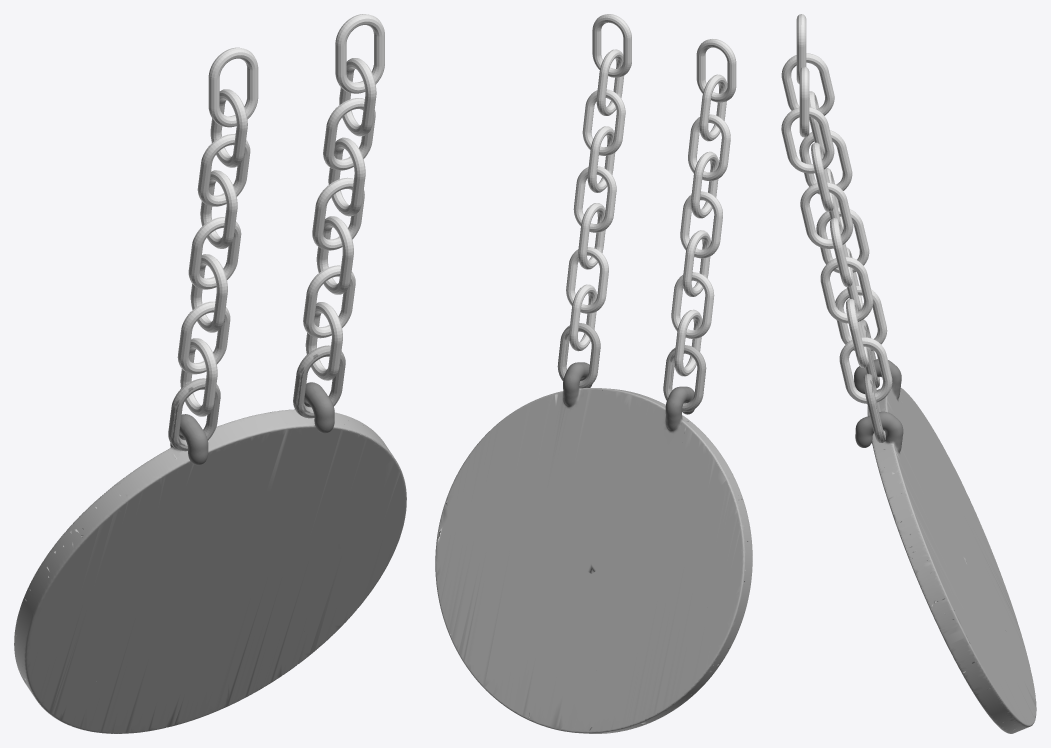
Rendered from sign-animation-transformed.glb.
The picture shows the model from 3 angles, left to right: view 1: azimuth 30°, elevation 25°; view 2: azimuth 150°, elevation 25°; view 3: azimuth 270°, elevation 25°; orthographic projection. The views are drawn at different scales.
Visible parts, largest first — view 1: Torus.074, Torus.072, Torus.056, Torus.062, Torus.059, Torus.051, Torus.001, Torus.063, Torus.070, Torus.002, Torus.071, Torus.050 (+4 smaller); view 2: Torus.074, Torus.072, Torus.070, Torus.002, Torus.062, Torus.056, Torus.059, Torus.051, Torus.050, Torus.058, Torus.061, Torus.053 (+4 smaller); view 3: Torus.074, Torus.063, Torus.071, Torus.061, Torus.001, Torus.072, Torus.050, Torus.053, Torus.058, Torus.060, Torus.062, Torus.070 (+1 smaller).
Boxes of the visible parts, box(x1,y1,x2,y2) form: Torus.074: box(14, 345, 406, 733); Torus.072: box(208, 14, 384, 127); Torus.056: box(188, 217, 241, 289); Torus.062: box(303, 265, 355, 338); Torus.059: box(177, 301, 230, 374); Torus.051: box(197, 134, 250, 206); Torus.001: box(328, 137, 365, 216); Torus.063: box(316, 216, 353, 294); Torus.070: box(323, 98, 375, 170); Torus.002: box(312, 177, 364, 250); Torus.071: box(339, 58, 376, 136); Torus.050: box(210, 89, 247, 167); Torus.074: box(435, 323, 752, 733); Torus.072: box(592, 14, 736, 102); Torus.070: box(582, 89, 625, 155); Torus.002: box(573, 166, 616, 232); Torus.062: box(566, 247, 608, 313); Torus.056: box(680, 191, 722, 258); Torus.059: box(671, 272, 714, 338); Torus.051: box(688, 114, 730, 181); Torus.050: box(699, 74, 727, 141); Torus.058: box(682, 230, 711, 296); Torus.061: box(569, 284, 597, 351); Torus.053: box(691, 151, 719, 218); Torus.074: box(854, 319, 1036, 733); Torus.063: box(820, 256, 873, 323); Torus.071: box(781, 107, 834, 173); Torus.061: box(839, 337, 892, 403); Torus.001: box(800, 182, 853, 248); Torus.072: box(796, 14, 809, 137); Torus.050: box(781, 53, 834, 115); Torus.053: box(799, 130, 852, 194); Torus.058: box(816, 207, 869, 273); Torus.060: box(835, 285, 887, 350); Torus.062: box(846, 299, 868, 367); Torus.070: box(811, 142, 833, 211).
Bounding box in the file's own units: 7.39 × 14.84 × 5.1.
Materials: 1 (1 with a texture image).
